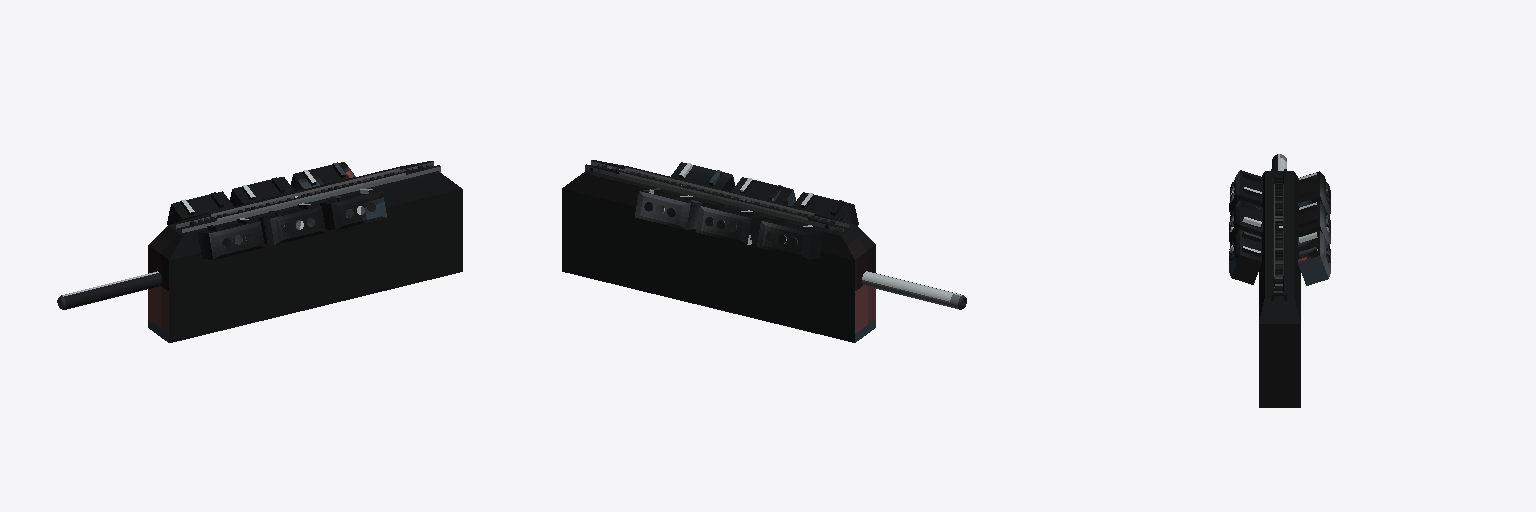
The picture shows the model from 3 angles: view 1: azimuth 30°, elevation 25°; view 2: azimuth 150°, elevation 25°; view 3: azimuth 270°, elevation 25°; orthographic projection.
Parts seen in each view (by area): view 1: Cube.043_Cube.044, Cylinder.005_Cylinder.030, Cylinder.004_Cylinder.029, Cylinder.006_Cylinder.031, Cube.001_Cube.114, Cylinder, Cube.044_Cube.046, Cylinder.003_Cylinder.028, Cylinder.002_Cylinder.026, Cylinder.001_Cylinder.027; view 2: Cube.043_Cube.044, Cylinder.003_Cylinder.028, Cylinder.002_Cylinder.026, Cylinder.001_Cylinder.027, Cube.044_Cube.046, Cylinder, Cube.001_Cube.114, Cylinder.005_Cylinder.030, Cylinder.004_Cylinder.029, Cylinder.006_Cylinder.031; view 3: Cube.043_Cube.044, Cylinder.002_Cylinder.026, Cylinder.004_Cylinder.029, Cylinder.006_Cylinder.031, Cylinder.005_Cylinder.030, Cylinder.003_Cylinder.028, Cylinder.001_Cylinder.027.
Part boxes in pixels (x1,y1,x2,y2): Cube.043_Cube.044: (148, 171, 462, 342); Cylinder.005_Cylinder.030: (198, 218, 264, 259); Cylinder.004_Cylinder.029: (320, 189, 386, 229); Cylinder.006_Cylinder.031: (259, 203, 325, 244); Cube.001_Cube.114: (181, 165, 440, 232); Cylinder: (57, 271, 162, 309); Cube.044_Cube.046: (174, 161, 433, 228); Cylinder.003_Cylinder.028: (167, 191, 233, 224); Cylinder.002_Cylinder.026: (291, 162, 355, 191); Cylinder.001_Cylinder.027: (230, 177, 294, 206); Cube.043_Cube.044: (562, 170, 875, 342); Cylinder.003_Cylinder.028: (757, 218, 823, 259); Cylinder.002_Cylinder.026: (635, 188, 701, 229); Cylinder.001_Cylinder.027: (696, 203, 762, 244); Cube.044_Cube.046: (585, 164, 843, 231); Cylinder: (862, 271, 966, 309); Cube.001_Cube.114: (591, 160, 850, 227); Cylinder.005_Cylinder.030: (792, 192, 858, 225); Cylinder.004_Cylinder.029: (671, 162, 734, 190); Cylinder.006_Cylinder.031: (731, 177, 795, 205); Cube.043_Cube.044: (1259, 171, 1300, 407); Cylinder.002_Cylinder.026: (1298, 231, 1330, 285); Cylinder.004_Cylinder.029: (1229, 230, 1261, 284); Cylinder.006_Cylinder.031: (1229, 200, 1262, 244); Cylinder.005_Cylinder.030: (1229, 170, 1262, 214); Cylinder.003_Cylinder.028: (1298, 171, 1330, 215); Cylinder.001_Cylinder.027: (1298, 201, 1330, 245).
Size of the model in its own units: 7.51 by 2.05 by 1.69.
1 materials, 1 textured.